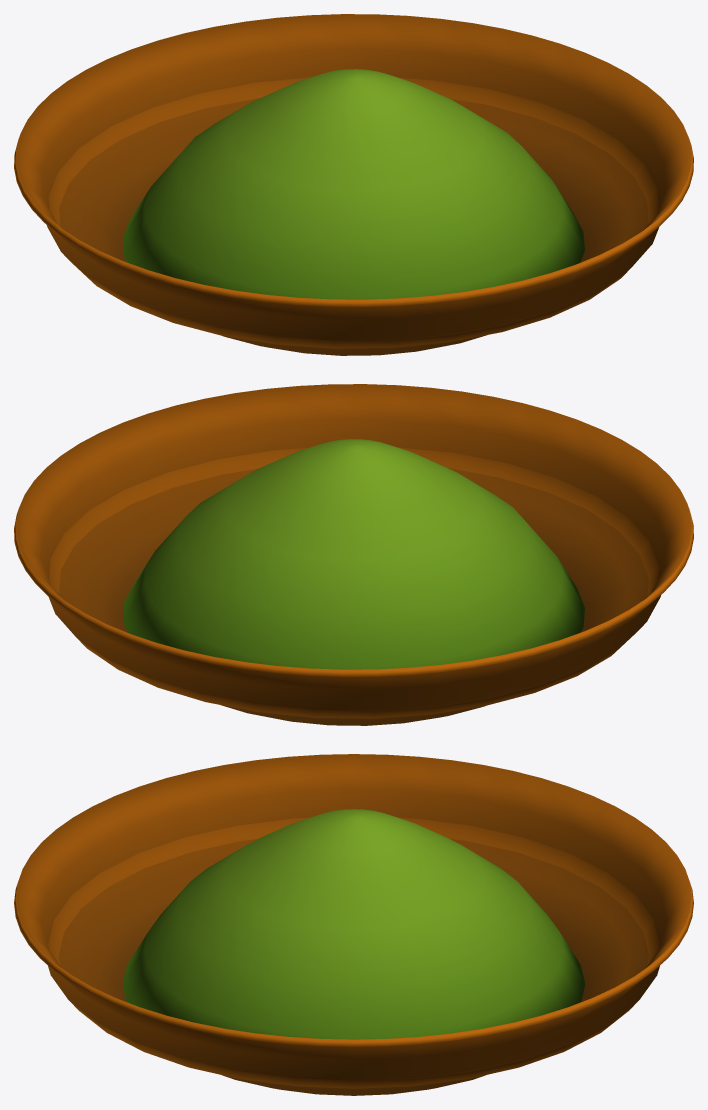
File: leaves.glb
3 views of the same model, one above another, from view 1: azimuth 30°, elevation 25°; view 2: azimuth 150°, elevation 25°; view 3: azimuth 270°, elevation 25° (orthographic).
Parts seen in each view (by area): view 1: plate; view 2: plate; view 3: plate.
Part boxes in pixels (box(x1,y1,x2,y2)): plate: box(14, 14, 693, 355); plate: box(14, 384, 693, 725); plate: box(14, 754, 693, 1095).
Size of what is drawn, in the model's own units: 0.542 by 0.1776 by 0.542.
1 material, 1 textured.
